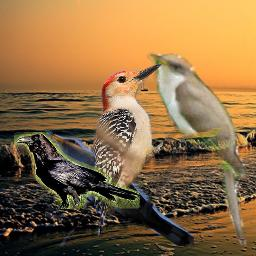Crow: (14, 132, 140, 209)
Cuckoo: (143, 48, 251, 248), (45, 130, 194, 246)
Woodpecker: (93, 62, 163, 236)
